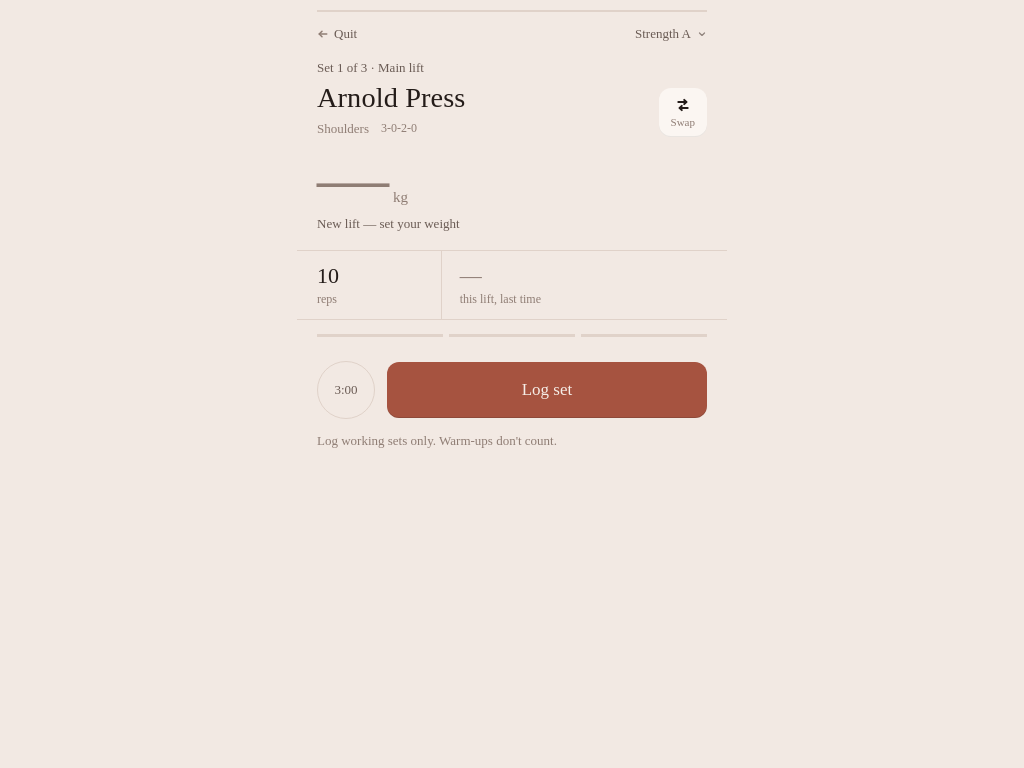
Test: the weight card never calls a loaded lift bodyweight › a loaded lift with no known weight asks for one instead
Click the text "New lift — set your weight".
click(388, 224)  # box [317,216,460,232]
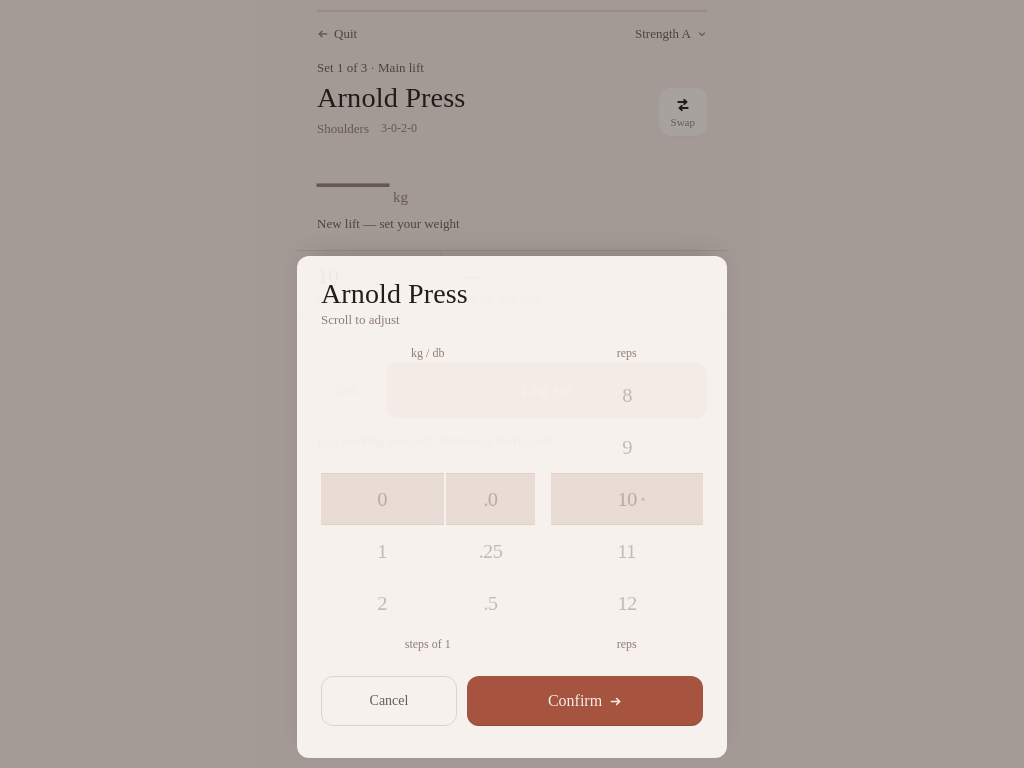
Check: the dialog is shown, box [297,256,727,758]
Check: the text "kg / db" is shown, box [411,346,444,361]
